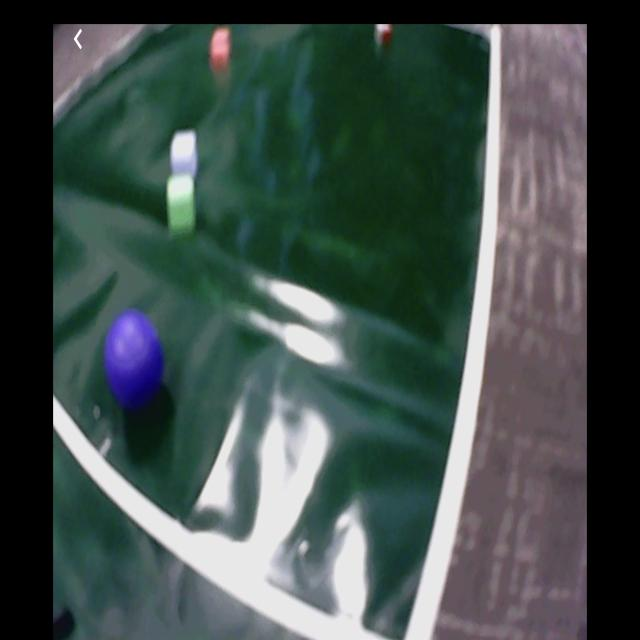ball: (106, 312, 166, 406)
